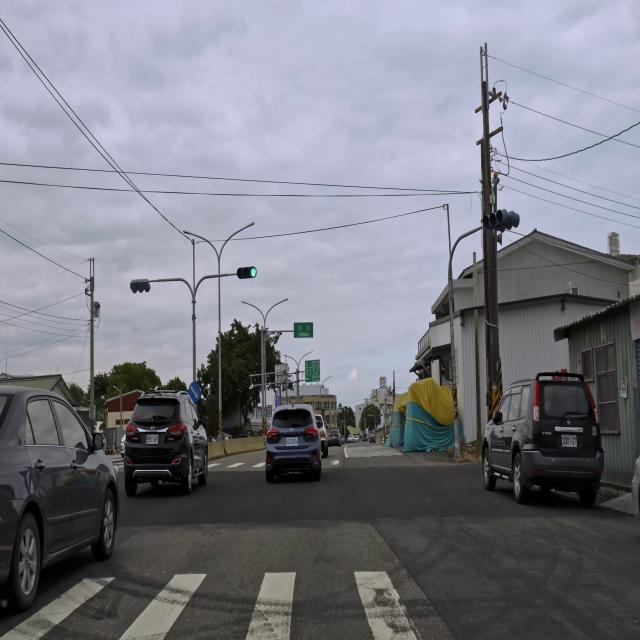green light: (236, 266, 257, 279)
